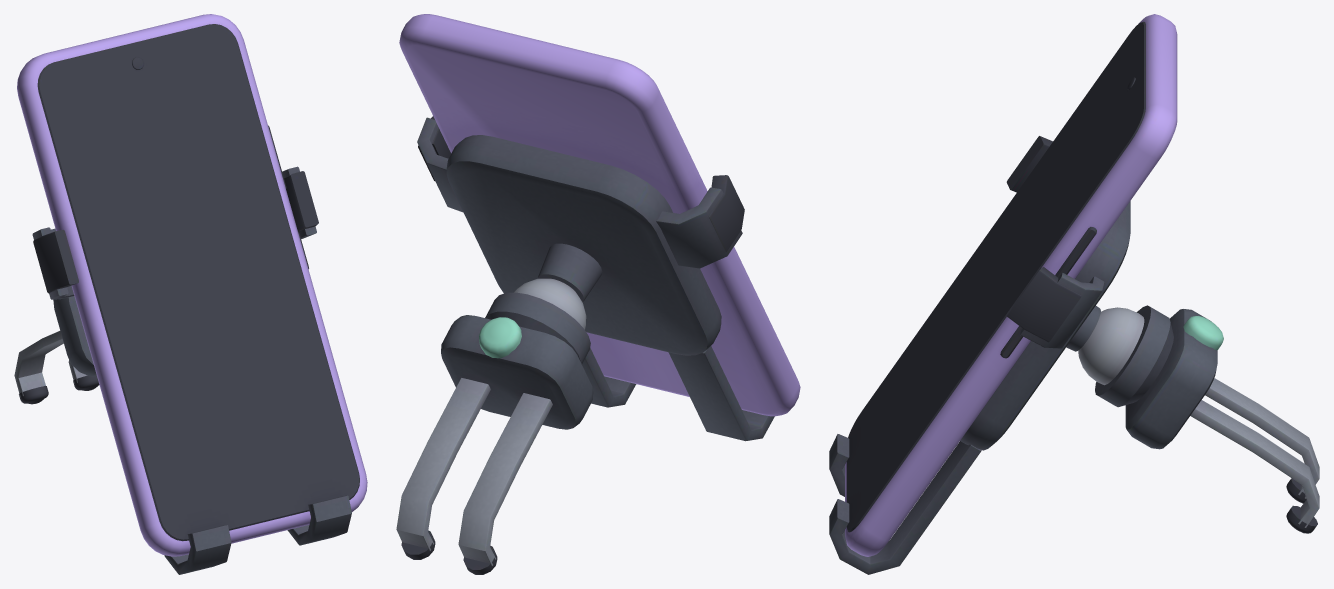
The model's file is car-phone-holder.glb.
The picture shows the model from 3 angles, left to right: view 1: azimuth 30°, elevation 25°; view 2: azimuth 150°, elevation 25°; view 3: azimuth 270°, elevation 25°; orthographic projection. The views are drawn at different scales.
Parts seen in each view (by area): view 1: car-phone-holder_body; view 2: car-phone-holder_body; view 3: car-phone-holder_body.
Boxes of the visible parts, <box> form: car-phone-holder_body: <box>14,14,367,574</box>; car-phone-holder_body: <box>396,14,800,574</box>; car-phone-holder_body: <box>829,14,1319,574</box>.
Size of the model in its own units: 0.0866 by 0.1353 by 0.1273.
1 material, 1 textured.
